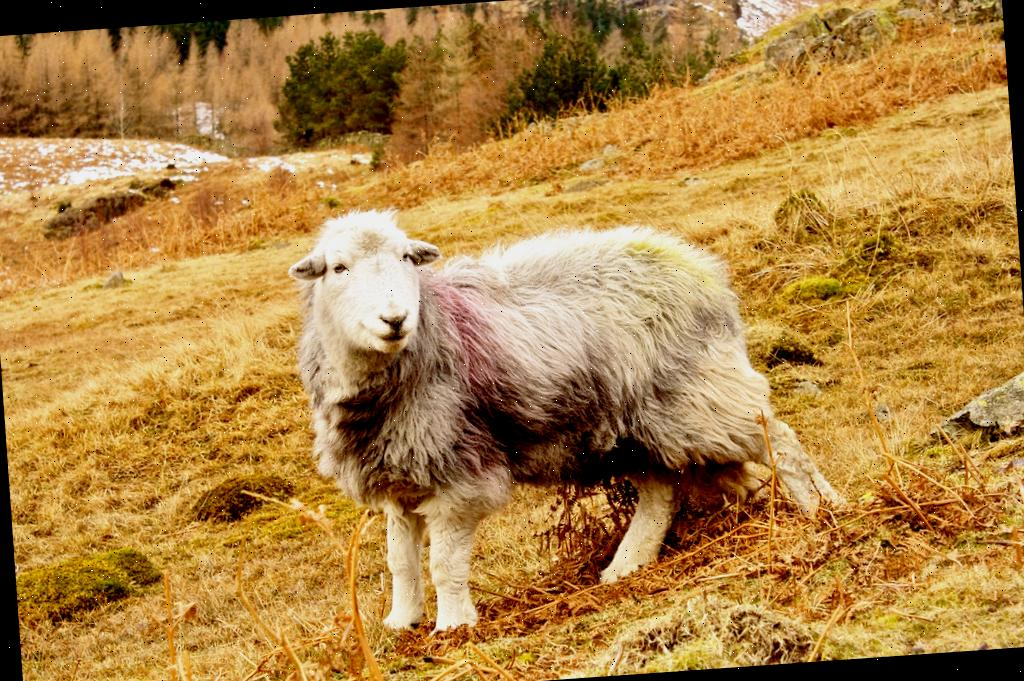Sheep: (285, 170, 849, 642)
